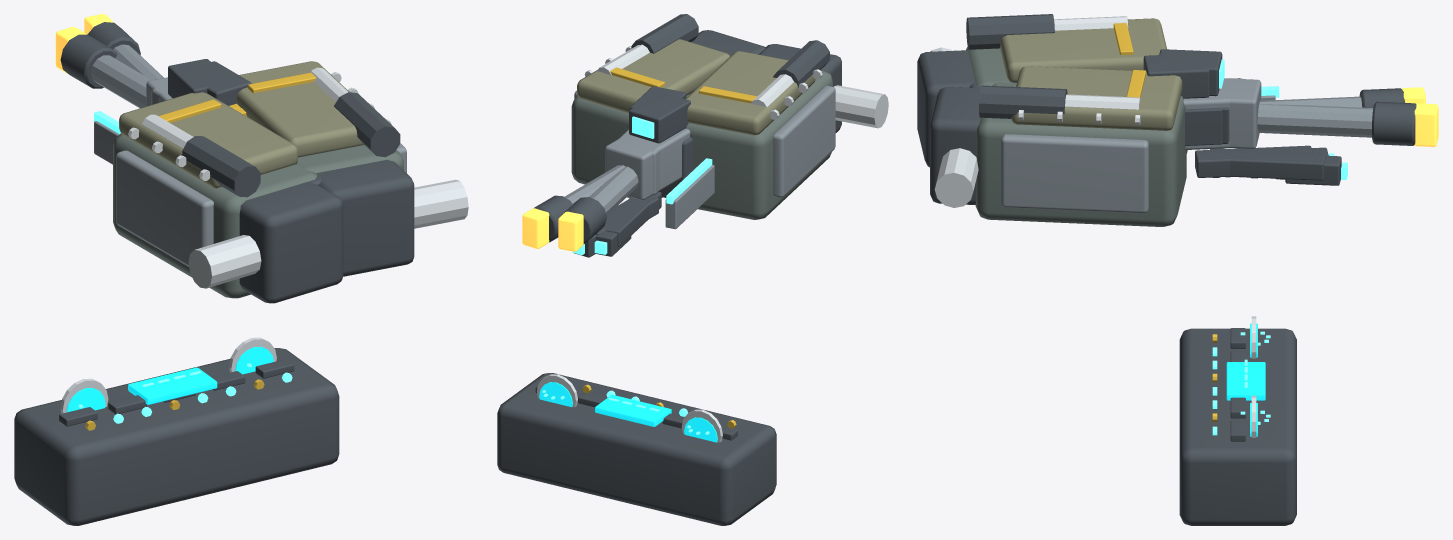
The model's file is strider_cockpit_hud.glb.
3 views of the same model, side by side, from view 1: azimuth 30°, elevation 25°; view 2: azimuth 150°, elevation 25°; view 3: azimuth 270°, elevation 25° (orthographic). The views are drawn at different scales.
Visible parts, largest first — view 1: Dash_Base, Elbow_Joint_L, Elbow_Joint_R, Forearm_Side_Plate_L, Forearm_Top_Plate_L, Forearm_Top_Plate_R, Forearm_Shell_L, Elbow_Pin_L, Forearm_Sleeve_L, Forearm_Sleeve_R, Elbow_Pin_R, Dash_Center_Screen (+18 smaller); view 2: Dash_Base, Forearm_Shell_L, Forearm_Top_Plate_L, Forearm_Top_Plate_R, Forearm_Side_Plate_L, Forearm_Shell_R, Pistol_Slide_R, Optic_Housing_R, Elbow_Pin_L, Knife_Blade, Dash_Center_Screen, Forearm_Sleeve_R (+21 smaller); view 3: Dash_Base, Forearm_Side_Plate_R, Forearm_Shell_R, Forearm_Top_Plate_R, Forearm_Top_Plate_L, Elbow_Joint_R, Barrel_R, Elbow_Joint_L, Under_Rail_R, Forearm_Sleeve_R, Pistol_Slide_R, Forearm_Sleeve_L (+15 smaller).
Boxes of the visible parts, x1,y1,x2,y2 form: Dash_Base: [14, 348, 339, 525]; Elbow_Joint_L: [239, 181, 343, 303]; Elbow_Joint_R: [317, 160, 414, 276]; Forearm_Side_Plate_L: [116, 150, 213, 266]; Forearm_Top_Plate_L: [119, 92, 297, 188]; Forearm_Top_Plate_R: [237, 61, 363, 157]; Forearm_Shell_L: [113, 133, 316, 298]; Elbow_Pin_L: [188, 235, 261, 288]; Forearm_Sleeve_L: [182, 136, 260, 197]; Forearm_Sleeve_R: [334, 92, 400, 157]; Elbow_Pin_R: [414, 179, 468, 228]; Dash_Center_Screen: [128, 367, 217, 404]; Dash_Base: [497, 373, 776, 525]; Forearm_Shell_L: [685, 70, 832, 219]; Forearm_Top_Plate_L: [685, 51, 815, 135]; Forearm_Top_Plate_R: [577, 39, 729, 113]; Forearm_Side_Plate_L: [772, 85, 835, 197]; Forearm_Shell_R: [571, 94, 689, 198]; Pistol_Slide_R: [605, 128, 690, 199]; Optic_Housing_R: [629, 92, 690, 143]; Elbow_Pin_L: [834, 85, 888, 128]; Knife_Blade: [665, 165, 714, 229]; Dash_Center_Screen: [595, 394, 671, 426]; Forearm_Sleeve_R: [631, 14, 698, 53]; Dash_Base: [1179, 328, 1296, 525]; Forearm_Side_Plate_R: [1001, 134, 1148, 213]; Forearm_Shell_R: [975, 82, 1186, 226]; Forearm_Top_Plate_R: [1011, 66, 1182, 130]; Forearm_Top_Plate_L: [1000, 18, 1166, 82]; Elbow_Joint_R: [930, 87, 980, 204]; Barrel_R: [1257, 104, 1373, 137]; Elbow_Joint_L: [917, 50, 975, 167]; Under_Rail_R: [1209, 148, 1326, 180]; Forearm_Sleeve_R: [979, 85, 1067, 118]; Pistol_Slide_R: [1208, 78, 1261, 148]; Forearm_Sleeve_L: [966, 14, 1054, 49].
Bounding box in the file's own units: 0.7825 × 1.17 × 1.34.
